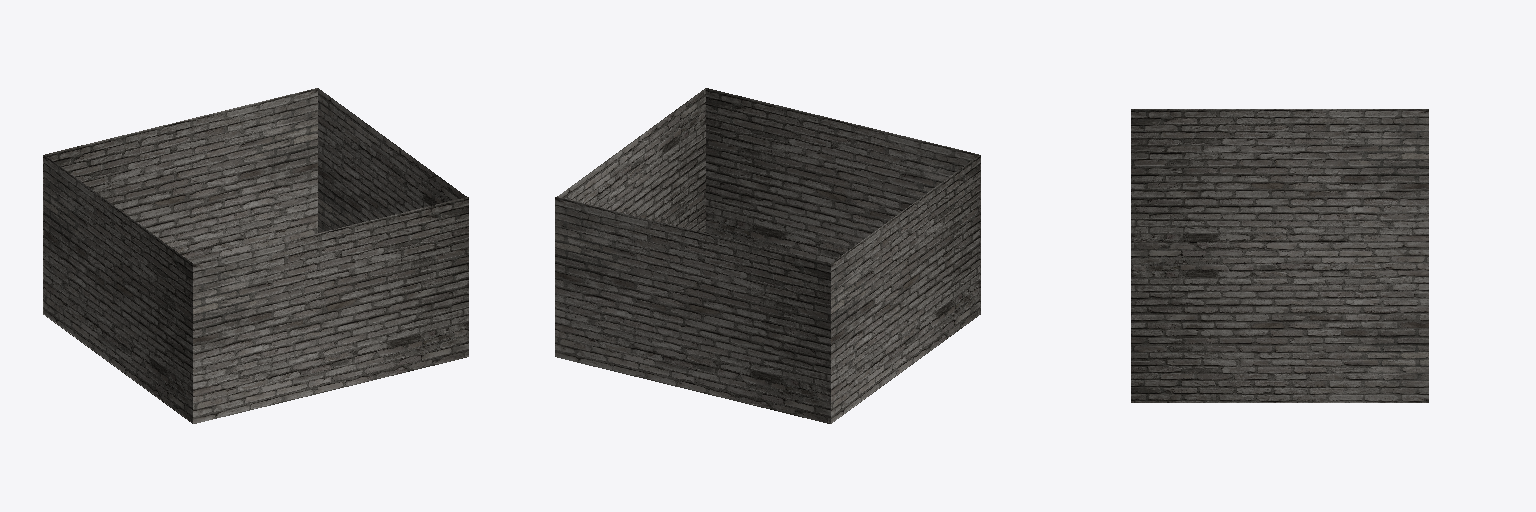
The picture shows the model from 3 angles: view 1: azimuth 30°, elevation 25°; view 2: azimuth 150°, elevation 25°; view 3: azimuth 270°, elevation 25°; orthographic projection.
Parts seen in each view (by area): view 1: polySurface1; view 2: polySurface1; view 3: polySurface1.
Boxes of the visible parts, <box> form: polySurface1: <box>43,88,468,423</box>; polySurface1: <box>555,88,980,423</box>; polySurface1: <box>1131,109,1428,402</box>.
Size of the model in its own units: 17.59 by 9.78 by 16.49.
1 materials, 1 textured.